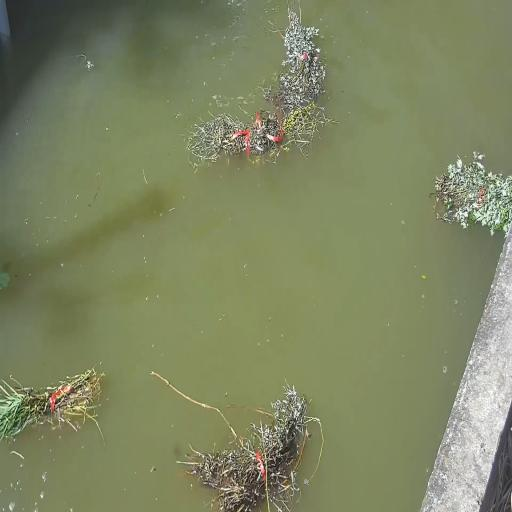twig: (165, 376, 318, 512), (0, 362, 106, 444), (188, 104, 322, 167), (432, 151, 512, 235), (274, 0, 325, 106)
